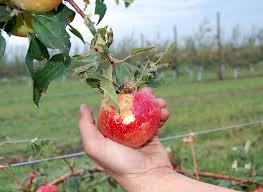damaged_apple: (94, 88, 166, 149)
